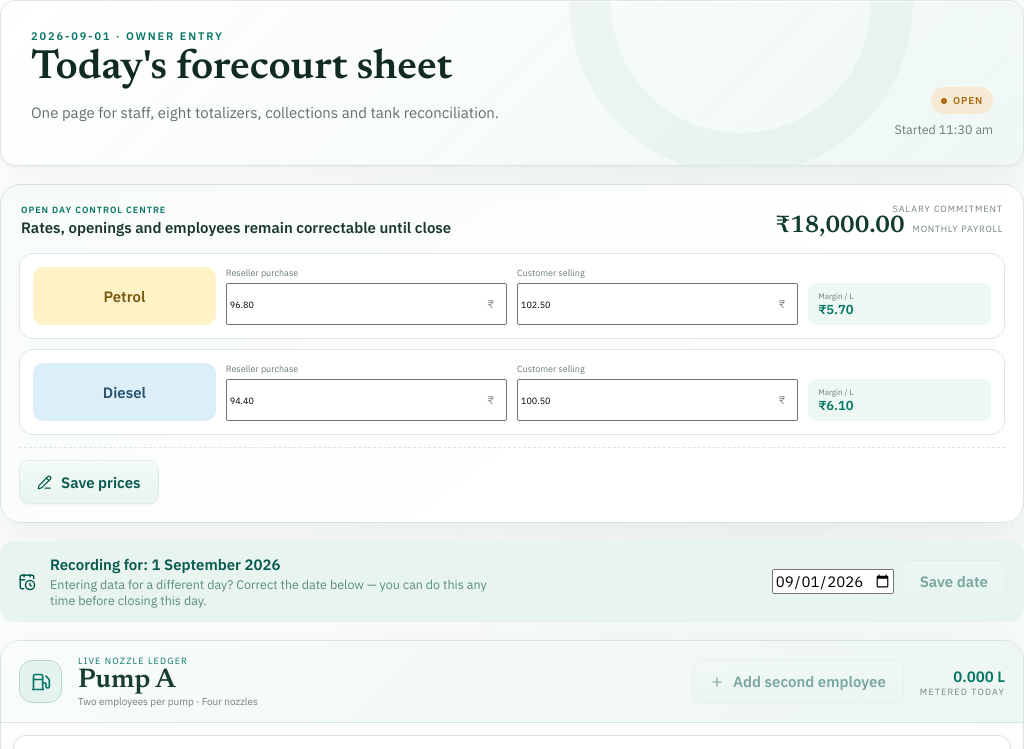
Scenario: DailyForecourtSheet › offers a Save prices button right next to the reseller/customer price fields, not only the distant Save setup changes button
This screenshot has width=1024, height=749.
Replace the text in the number field named "Diesel active customer selling price" with "99.93". click: (658, 400)
box: [517, 379, 798, 421]
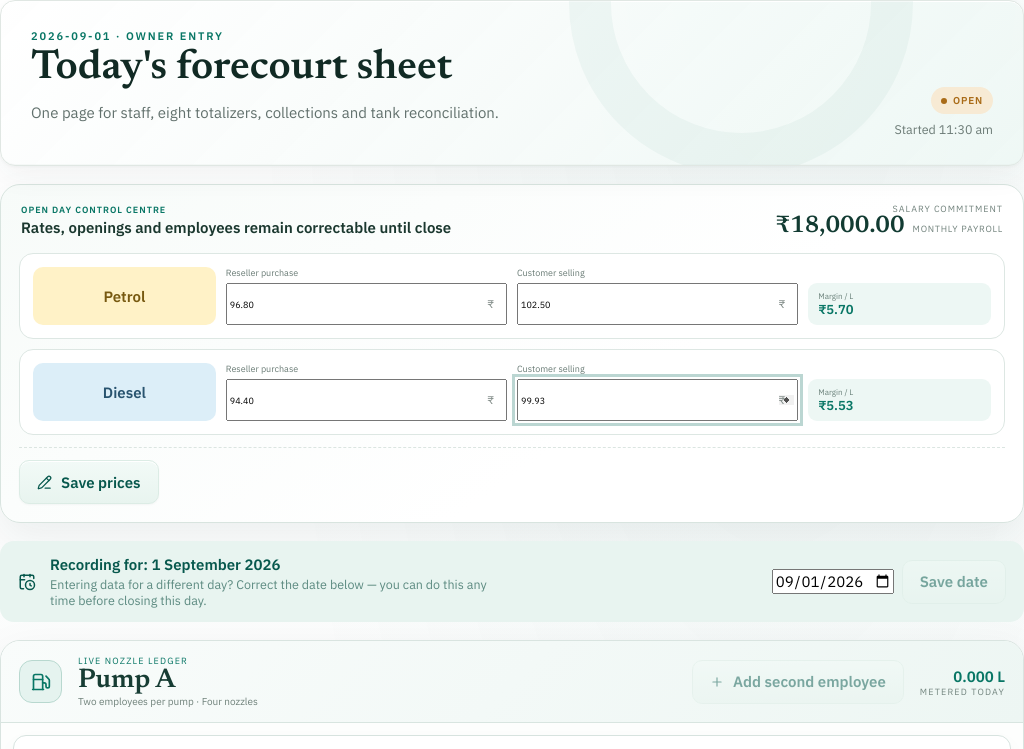
Check: the element named "Save prices" is shown, box [0, 184, 1023, 523]
Click the button "Save prices". click: (89, 482)
box: [19, 460, 159, 504]
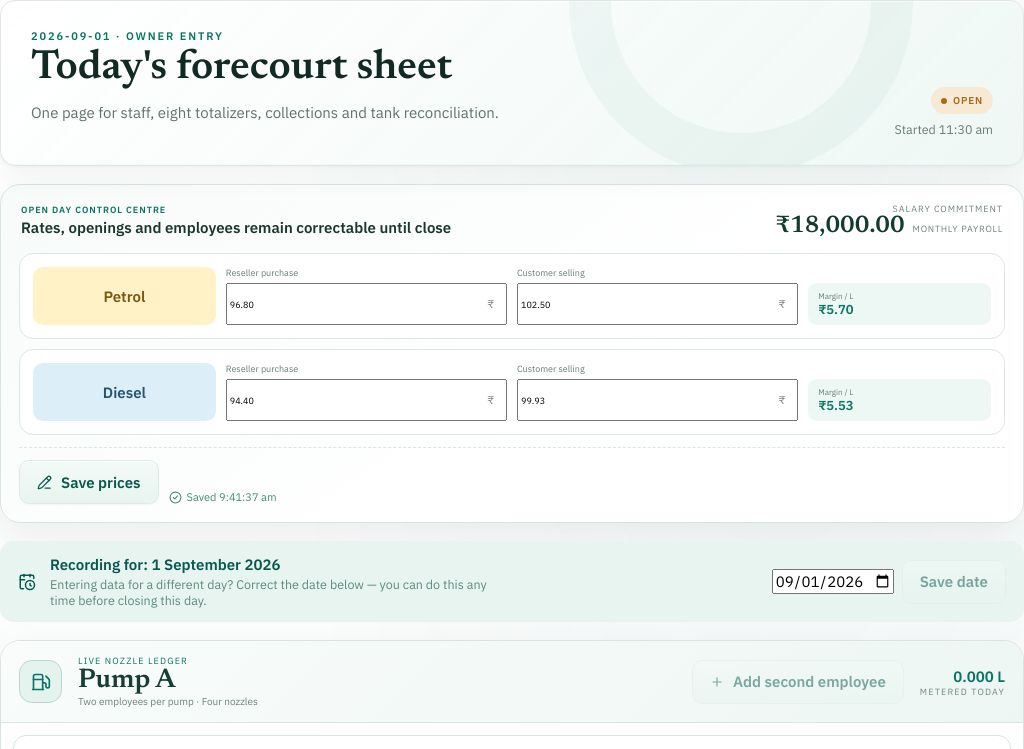
Check: the text "Saved 9:41:37 am" is shown, box [169, 490, 277, 504]
